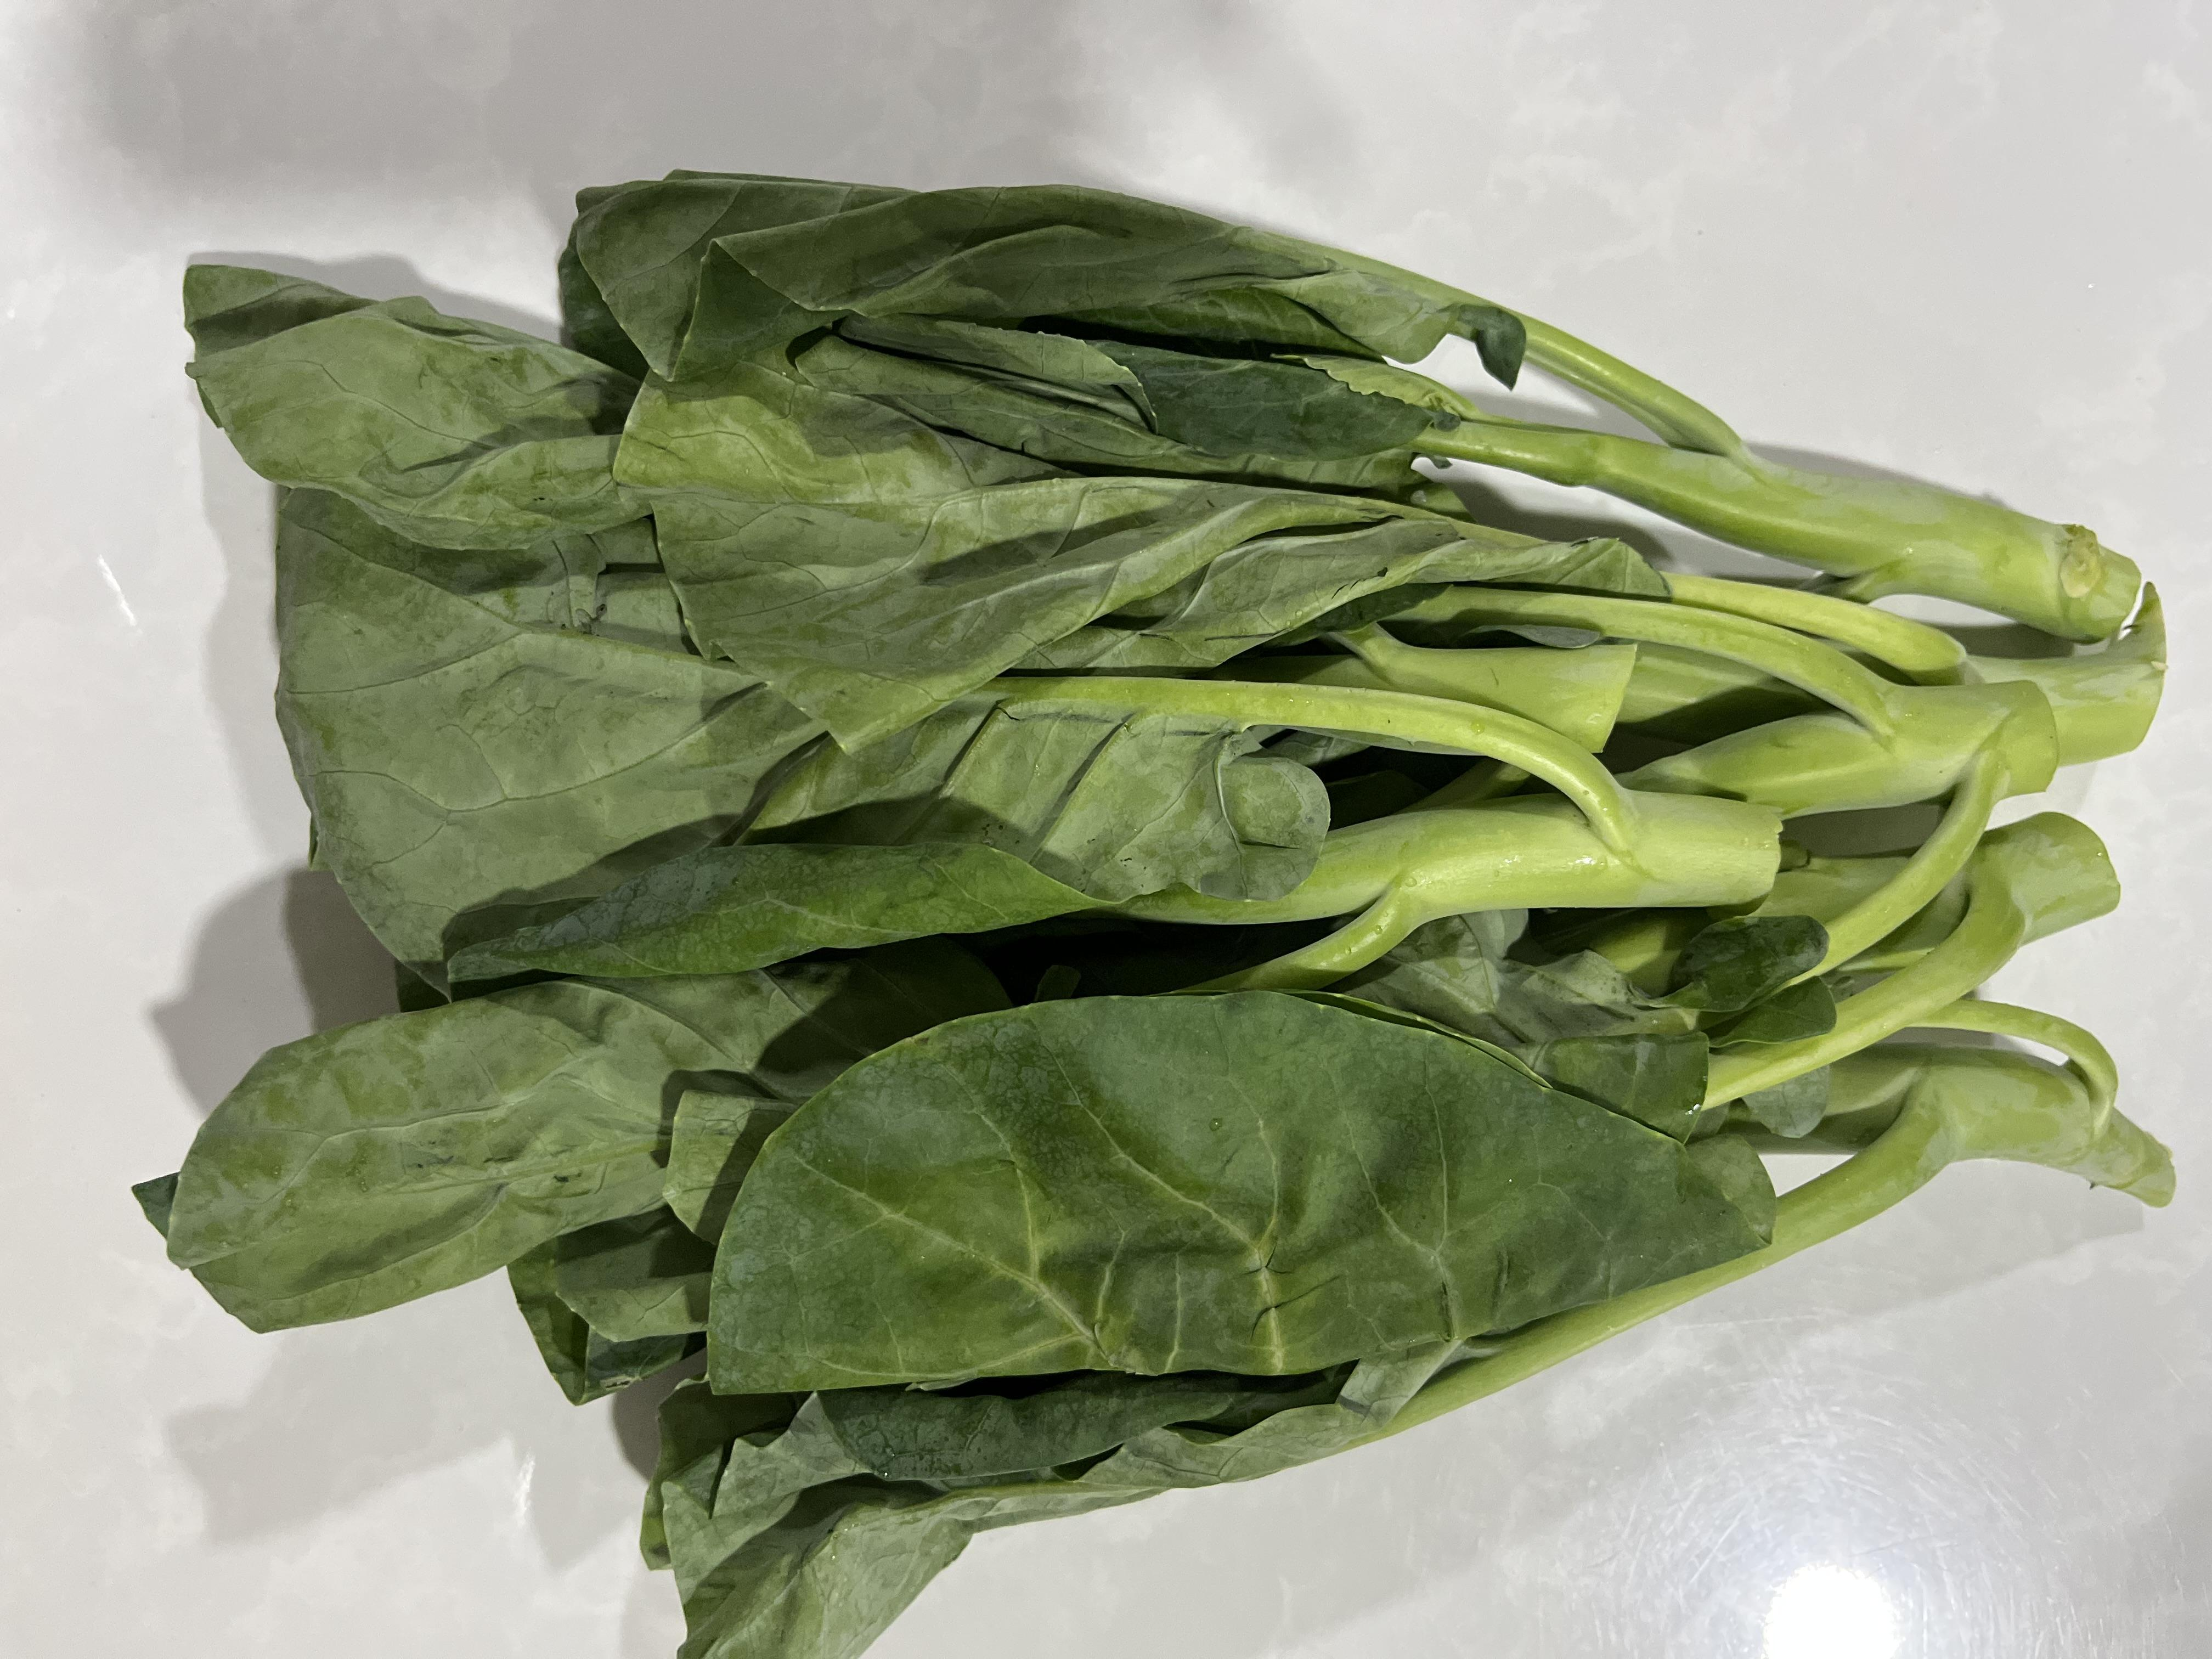Healthy-Pechay: (209, 99, 2167, 1614)
